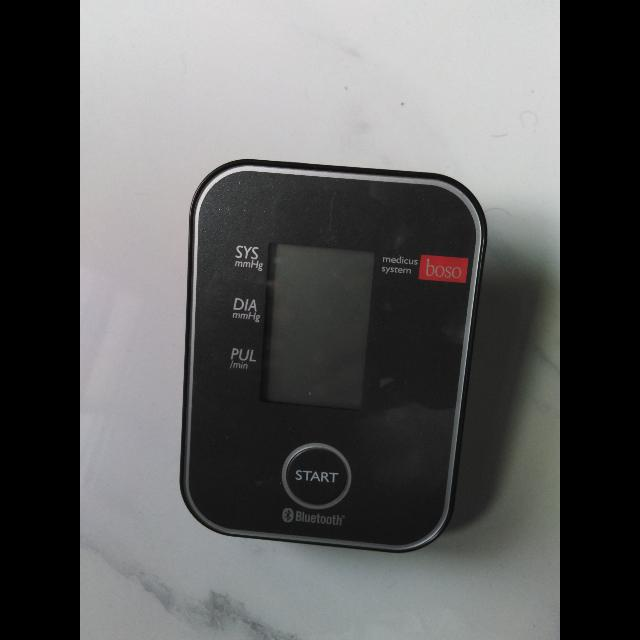Blood-Pressure-Monitor: (171, 145, 495, 562)
